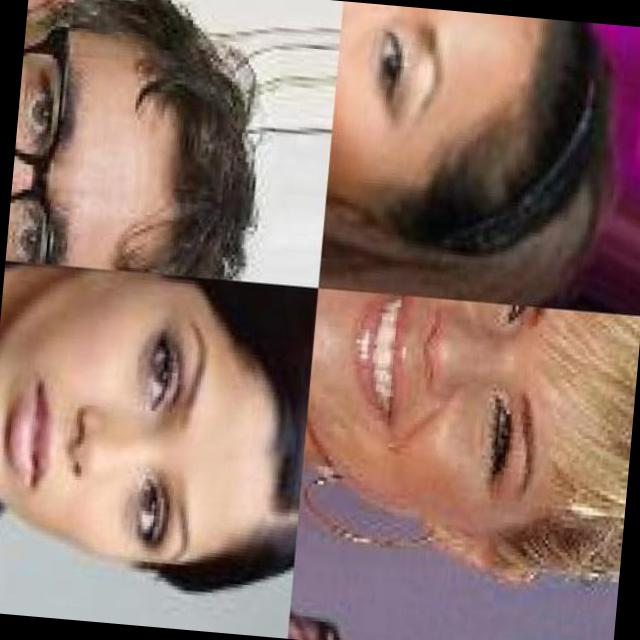bareface: (0, 288, 295, 567)
